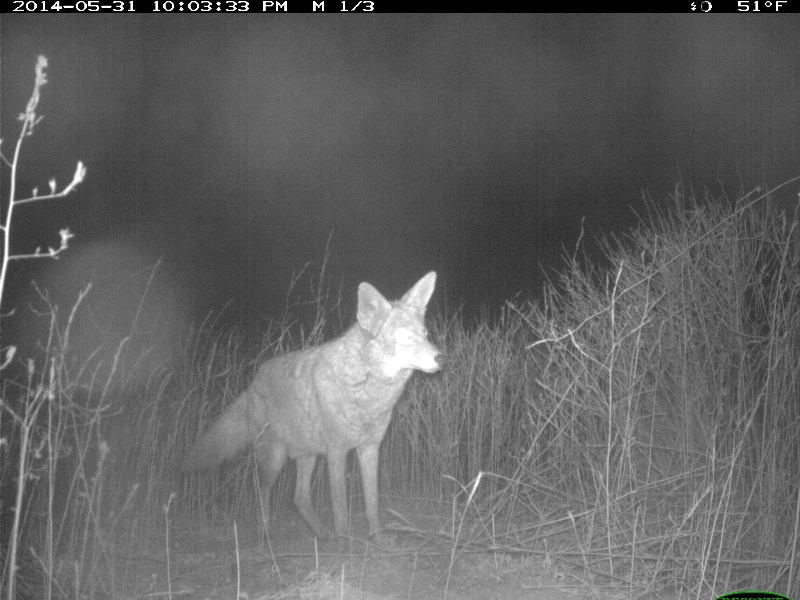coyote: (174, 268, 447, 550)
